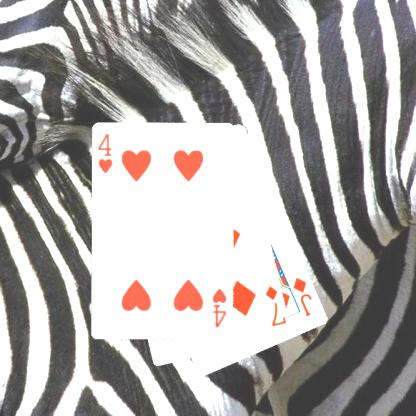4H: (96, 131, 114, 175), (210, 286, 228, 329)
7D: (263, 283, 286, 328)
JD: (291, 274, 314, 318)
